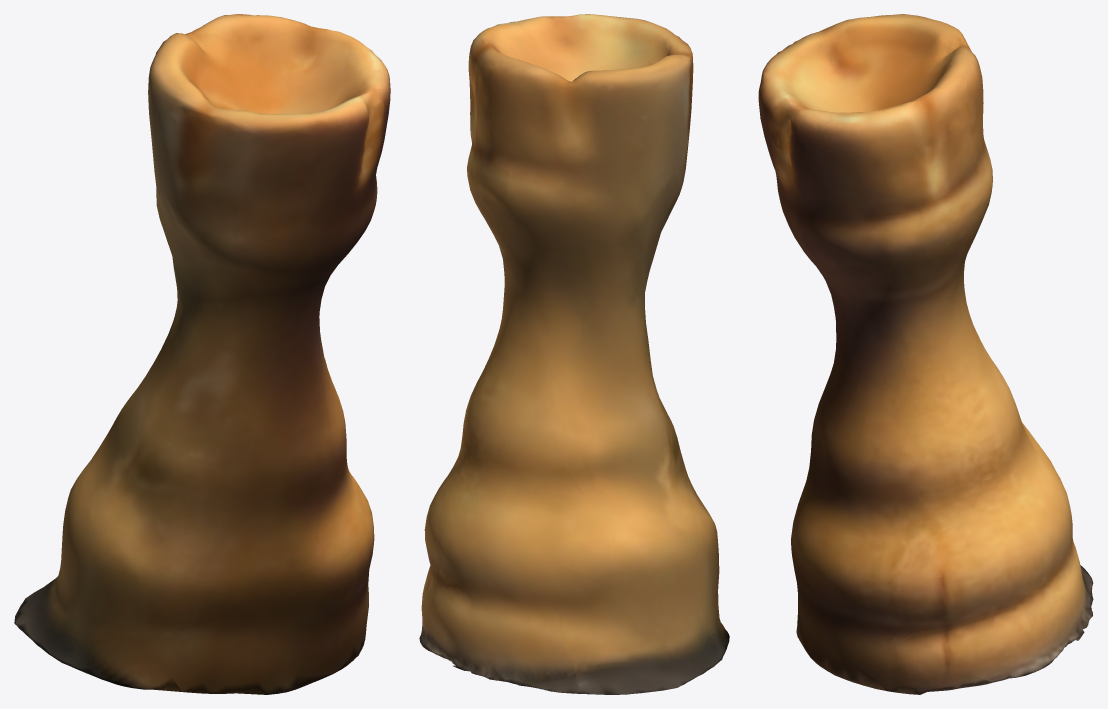
The model's file is candidate_c_top_max_minus_002.obj.
The picture shows the model from 3 angles, left to right: view 1: azimuth 30°, elevation 25°; view 2: azimuth 150°, elevation 25°; view 3: azimuth 270°, elevation 25°; orthographic projection. The views are drawn at different scales.
Visible parts, largest first — view 1: 3DModel; view 2: 3DModel; view 3: 3DModel.
Part boxes in pixels (x1,y1,x2,y2): 3DModel: [14, 14, 390, 694]; 3DModel: [419, 14, 729, 694]; 3DModel: [758, 14, 1093, 694].
Bounding box in the file's own units: 0.1412 × 0.2734 × 0.1408.
1 material, 1 textured.
